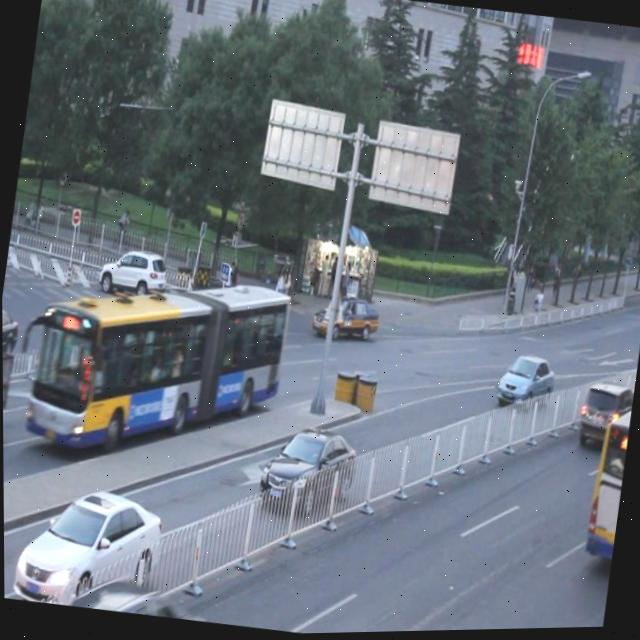bus: (2, 354, 15, 443)
car: (9, 475, 168, 618), (257, 421, 360, 521), (62, 568, 200, 624), (309, 290, 382, 348), (574, 378, 635, 447), (494, 349, 557, 413), (101, 247, 166, 305), (2, 302, 24, 360)
van: (24, 261, 292, 480), (582, 403, 633, 568)
